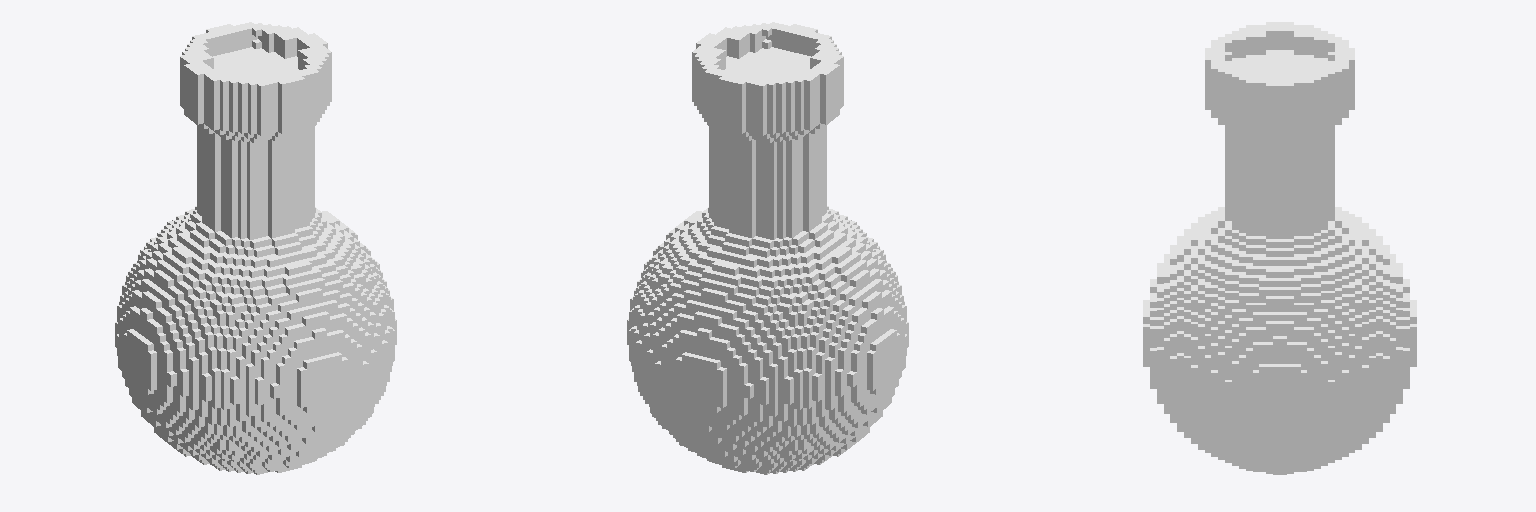
File: Potion1.obj
3 renders of one model, left to right at view 1: azimuth 30°, elevation 25°; view 2: azimuth 150°, elevation 25°; view 3: azimuth 270°, elevation 25°, orthographic.
Visible parts, largest first — view 1: object 1; view 2: object 1; view 3: object 1.
Boxes of the visible parts, <box> form: object 1: <box>115,22,396,474</box>; object 1: <box>627,22,908,474</box>; object 1: <box>1143,22,1416,474</box>.
Bounding box in the file's own units: 4 × 6.5 × 4.